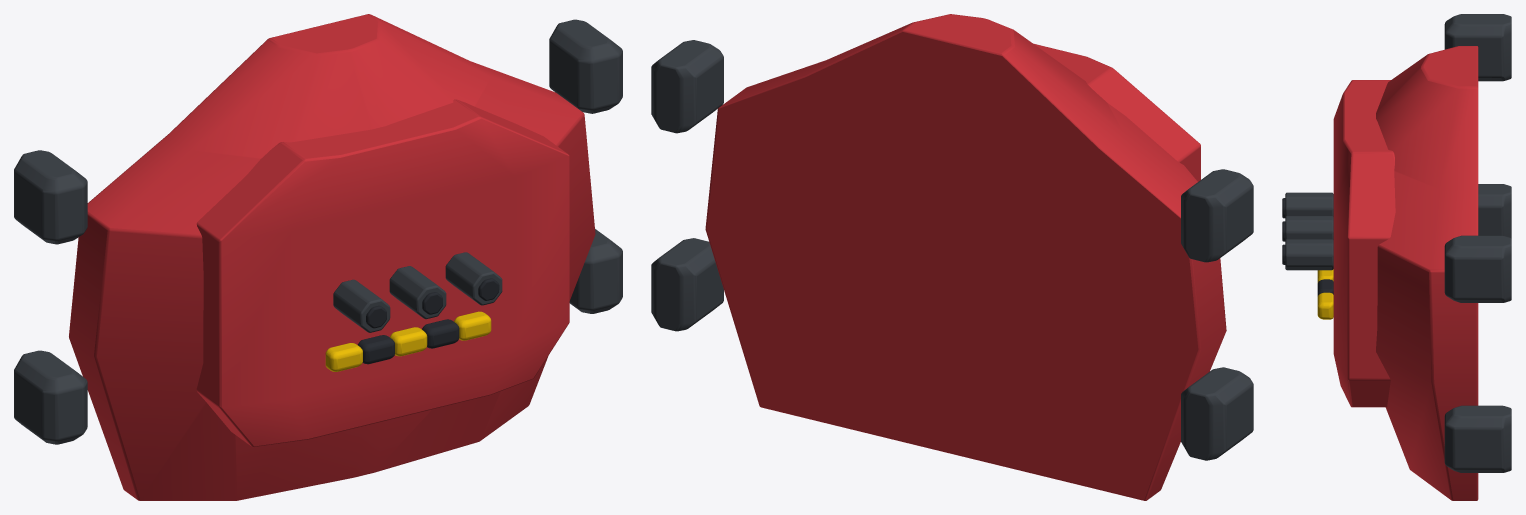
Rendered from ShoulderBack_Set07_Salvo.fbx.
3 renders of one model, left to right at view 1: azimuth 30°, elevation 25°; view 2: azimuth 150°, elevation 25°; view 3: azimuth 270°, elevation 25°, orthographic. The views are drawn at different scales.
Parts seen in each view (by area): view 1: ShoulderBack_Set07_Salvo; view 2: ShoulderBack_Set07_Salvo; view 3: ShoulderBack_Set07_Salvo.
Part boxes in pixels (bbox=[...]): ShoulderBack_Set07_Salvo: bbox=[14, 14, 622, 500]; ShoulderBack_Set07_Salvo: bbox=[651, 14, 1253, 500]; ShoulderBack_Set07_Salvo: bbox=[1282, 14, 1511, 500].
Size of the model in its own units: 0.51 by 0.35 by 0.2057.
